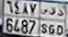4: (13, 0, 20, 34)
6: (5, 0, 13, 33)
7: (29, 1, 36, 35)
8: (21, 1, 28, 34)
D: (56, 9, 64, 36)
G: (49, 7, 56, 36)
S: (40, 7, 48, 35)
